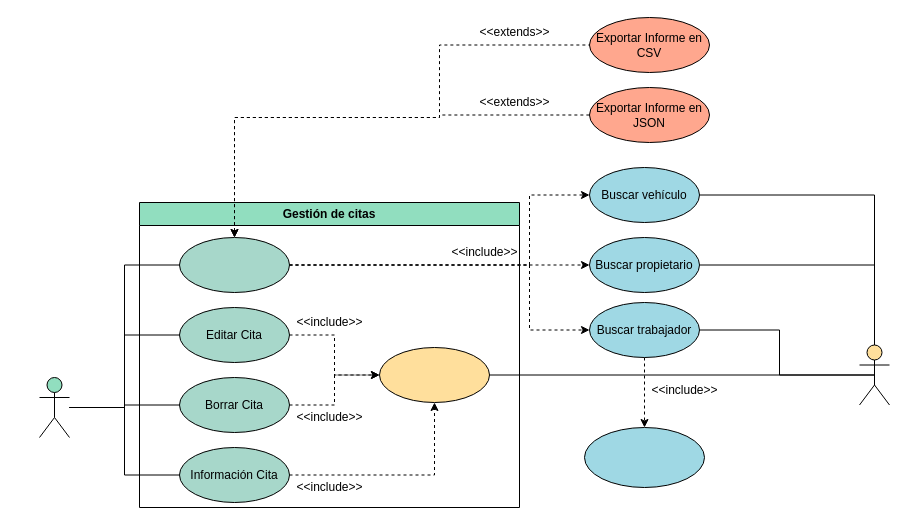
This 908x525 diagram has some shape labels left out. Each missing label, with the centre of its shape:
"Administrador" belongs at pixel 54 407.
"BBDD" belongs at pixel 874 374.
"Buscar Cita BBDD" belongs at pixel 434 374.
"Comprobar si el trabajador esta libre" belongs at pixel 644 457.
"Nueva Cita" belongs at pixel 234 264.
